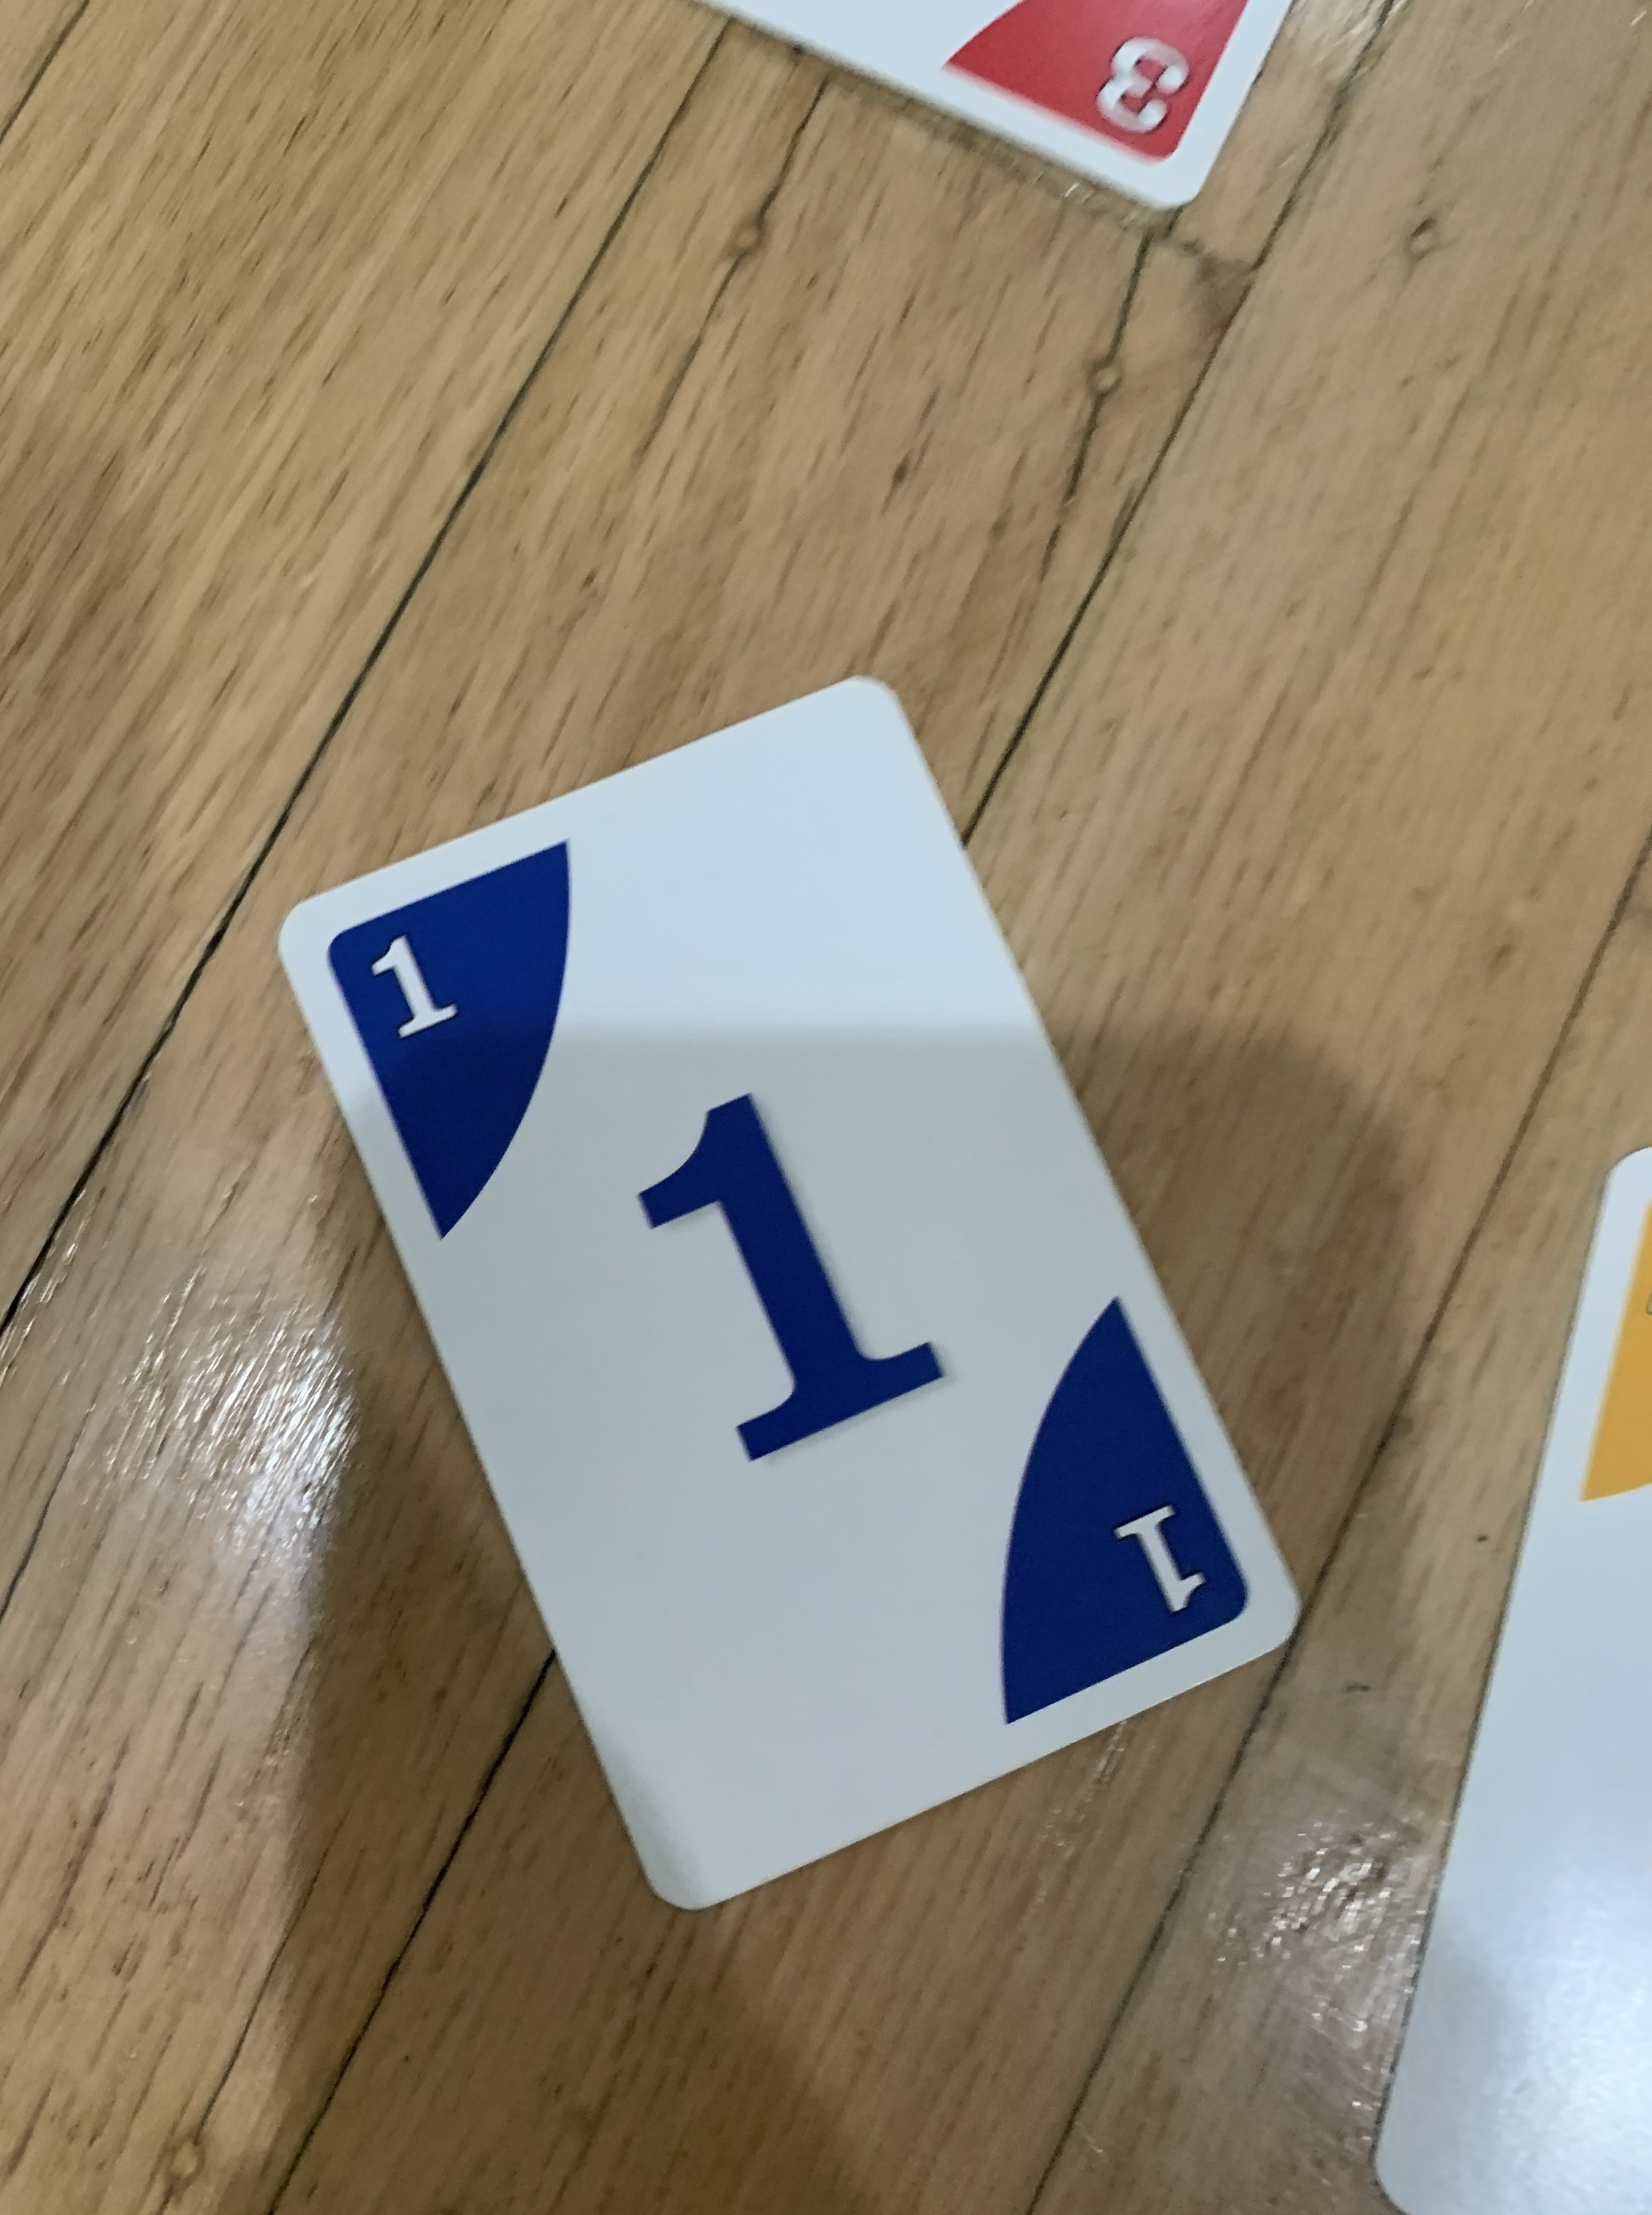one: (260, 661, 1310, 1923)
